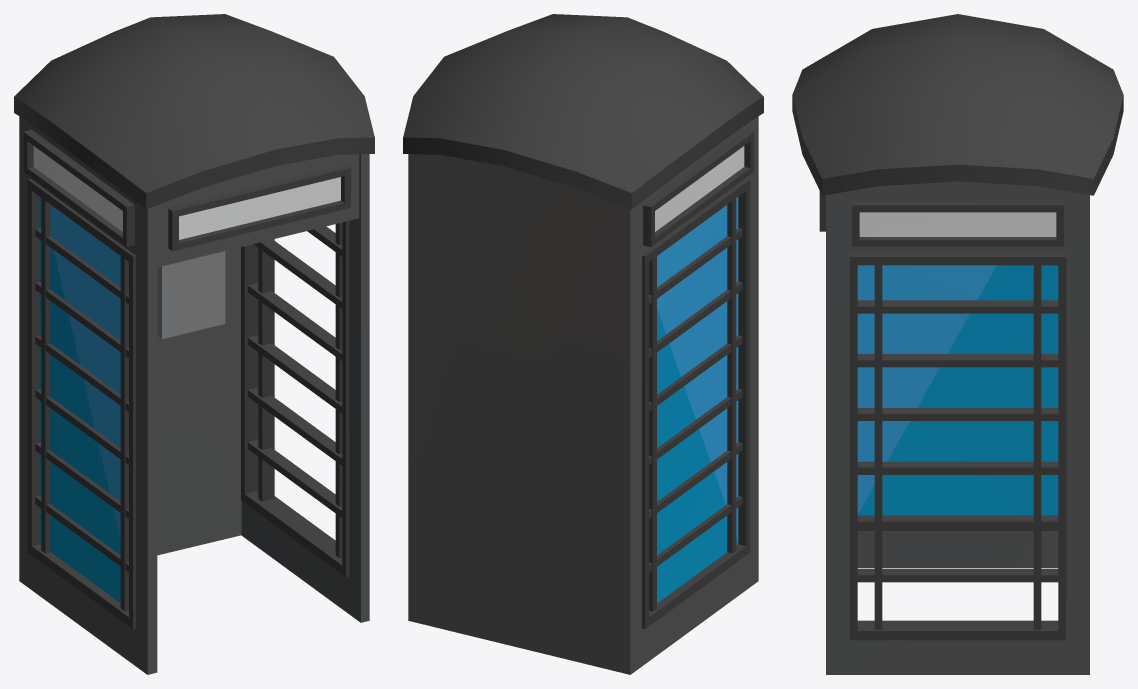
The model's file is phone_booth_001.glb.
3 views of the same model, side by side, from view 1: azimuth 30°, elevation 25°; view 2: azimuth 150°, elevation 25°; view 3: azimuth 270°, elevation 25° (orthographic). The views are drawn at different scales.
Visible parts, largest first — view 1: phone_booth_001; view 2: phone_booth_001; view 3: phone_booth_001.
Part boxes in pixels (x1,y1,x2,y2): phone_booth_001: (14, 14, 374, 674); phone_booth_001: (403, 14, 763, 674); phone_booth_001: (792, 14, 1123, 674).
Size of the model in its own units: 1.48 by 2.86 by 1.48.
Materials: 1 (1 with a texture image).
